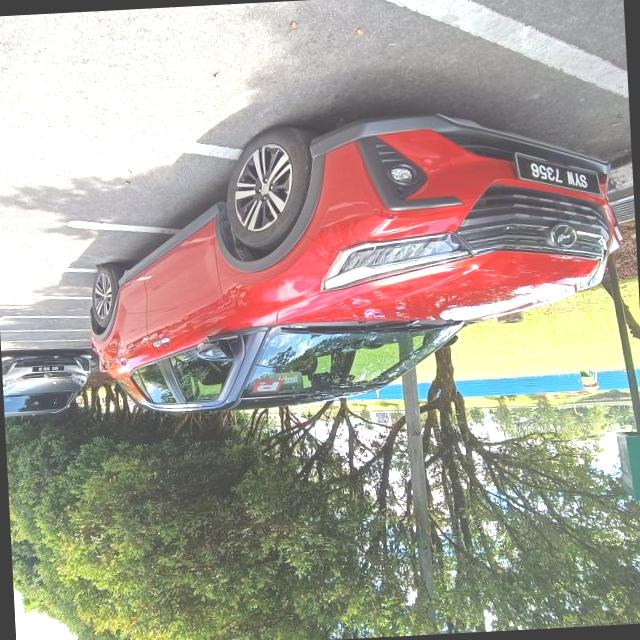PeroduaAtiva: (75, 102, 630, 420)
